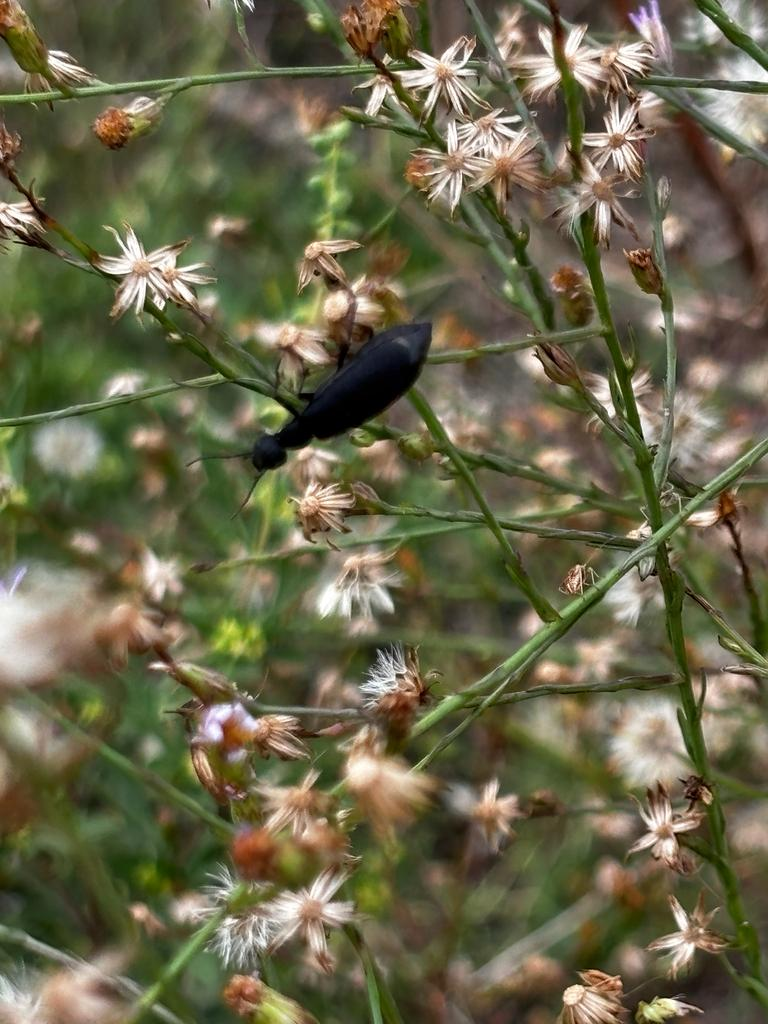blister_beetle: (153, 293, 485, 548)
